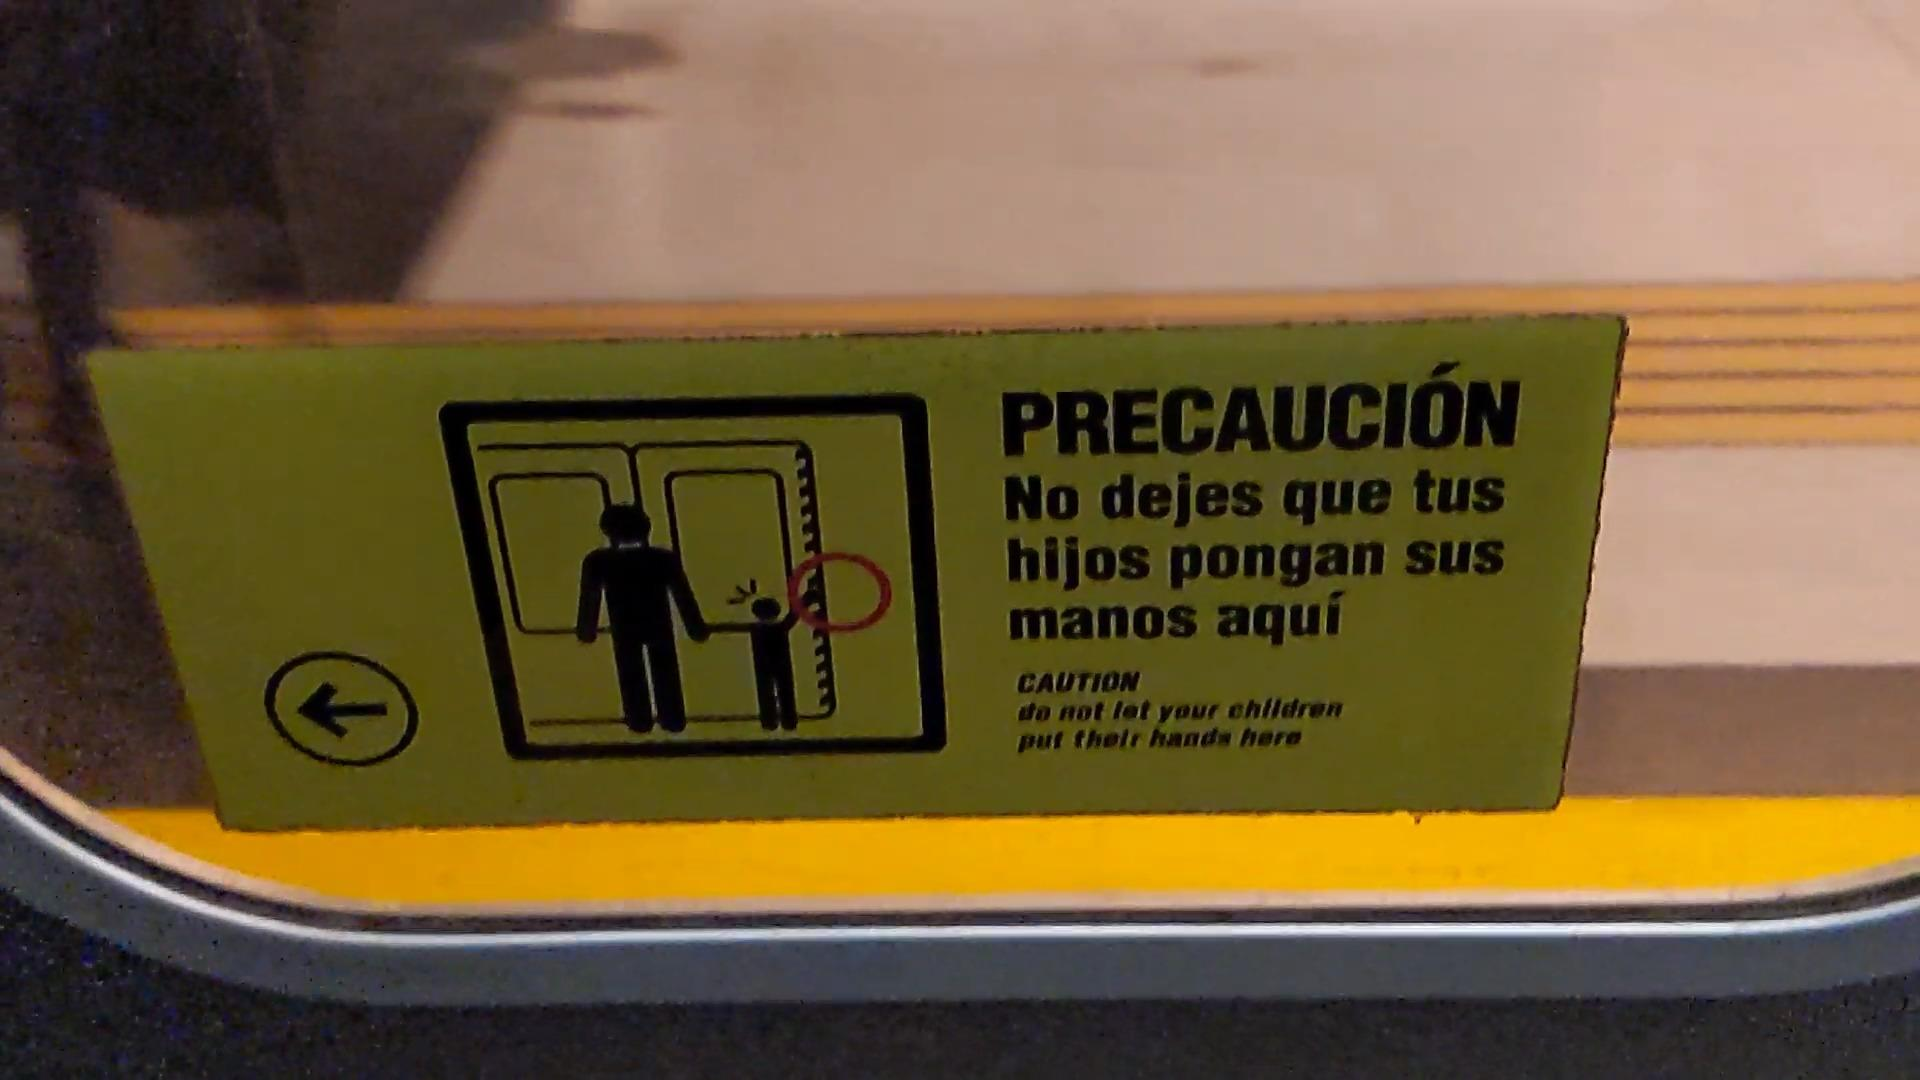left arrow: (291, 679, 394, 744)
